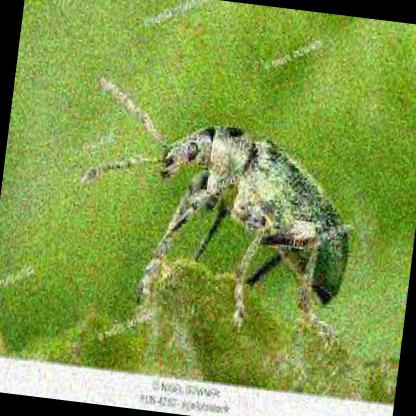ash weevil: (85, 77, 352, 327)
